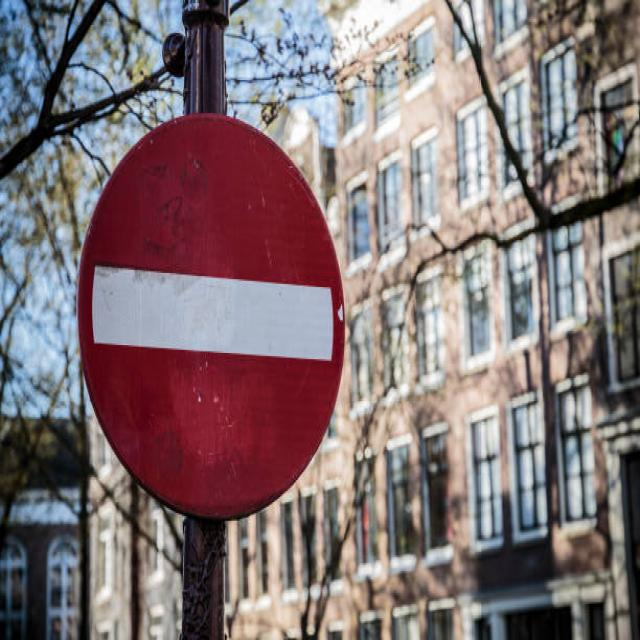do_not_enter: (72, 108, 350, 526)
